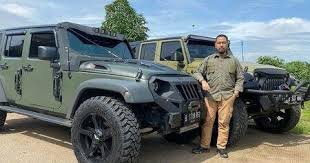mobil: (2, 17, 190, 142)
